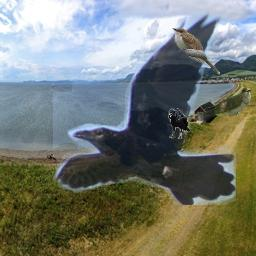Crow: (53, 11, 236, 205), (168, 108, 190, 139)
Cuckoo: (178, 87, 251, 120), (172, 28, 220, 75)
